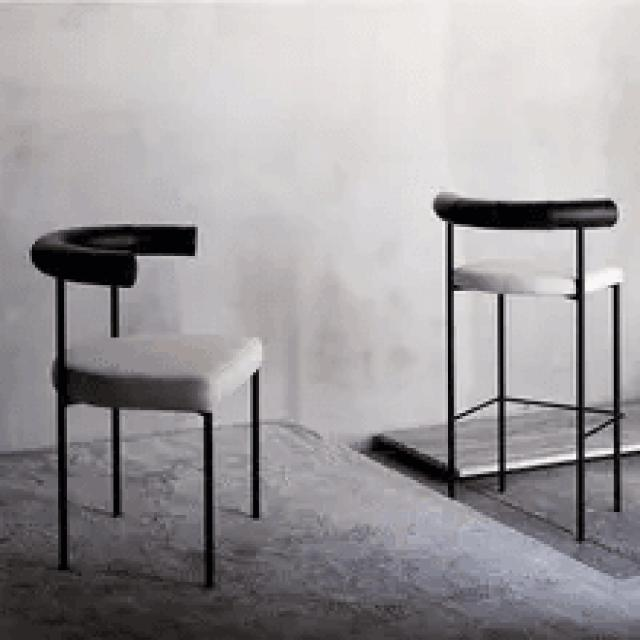chair: (24, 209, 273, 591), (428, 184, 630, 546), (23, 221, 272, 411), (430, 185, 632, 300)
